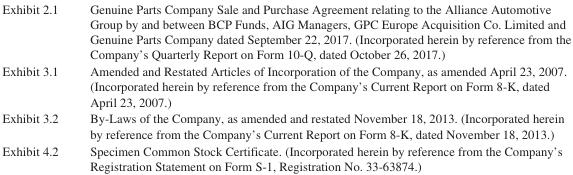table: (1, 1, 570, 172)
table column: (73, 1, 570, 172), (1, 1, 73, 172)
table row: (1, 1, 570, 62), (1, 62, 570, 109), (1, 109, 570, 141), (1, 141, 570, 172)
